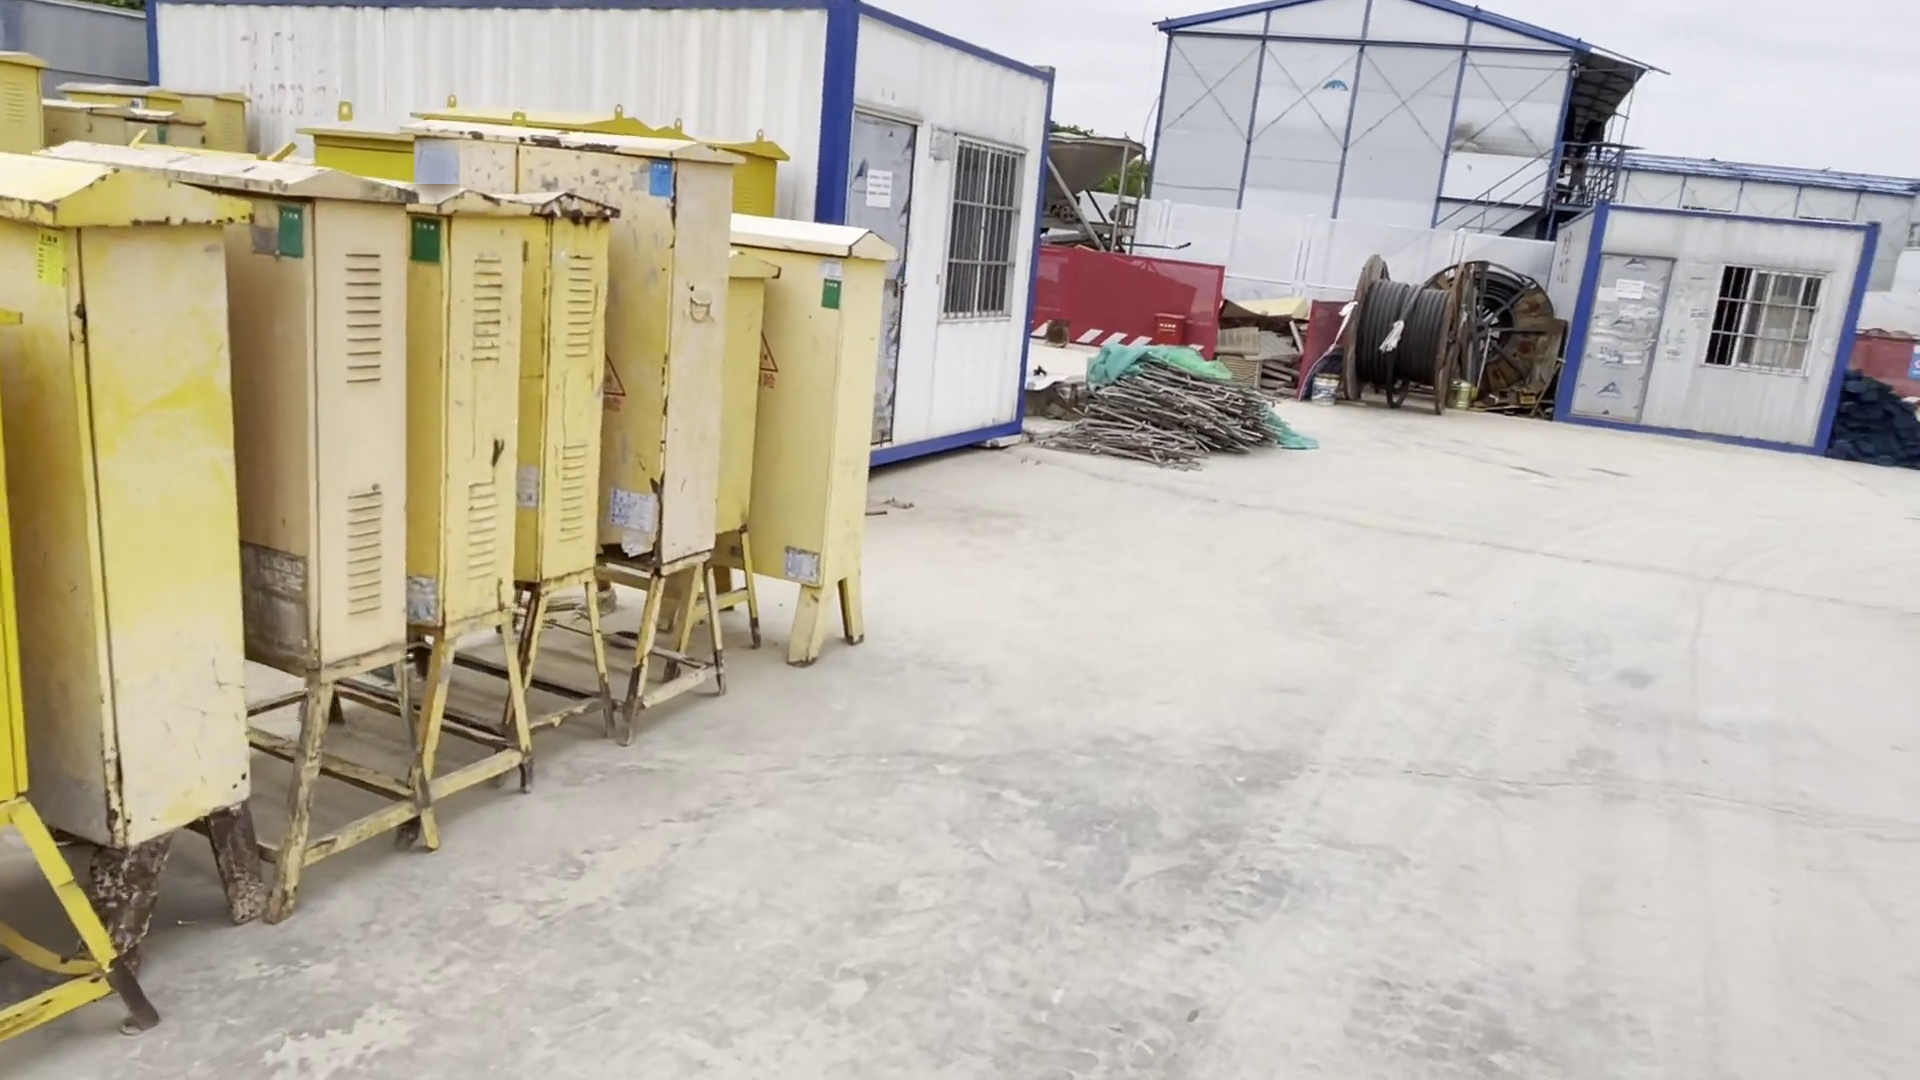ebox: (98, 146, 434, 882), (419, 115, 744, 708), (36, 152, 265, 934), (385, 193, 537, 831), (760, 196, 909, 667), (531, 190, 637, 781), (148, 83, 268, 144), (4, 38, 57, 152)
